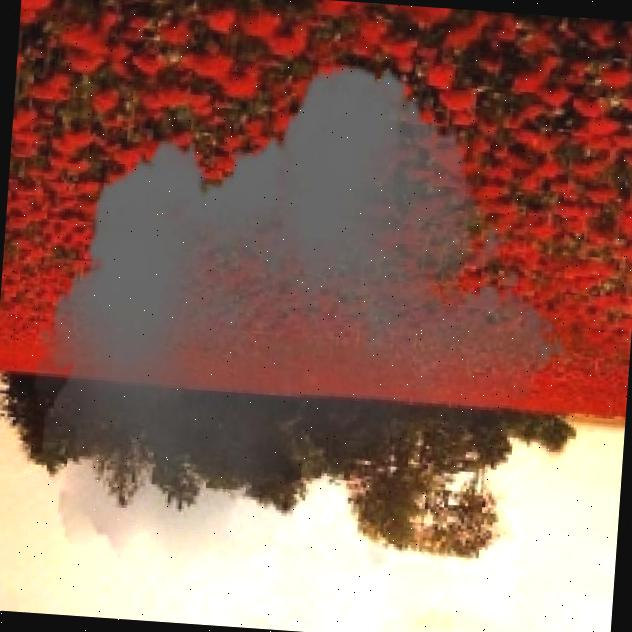smoke: (23, 25, 587, 606)
